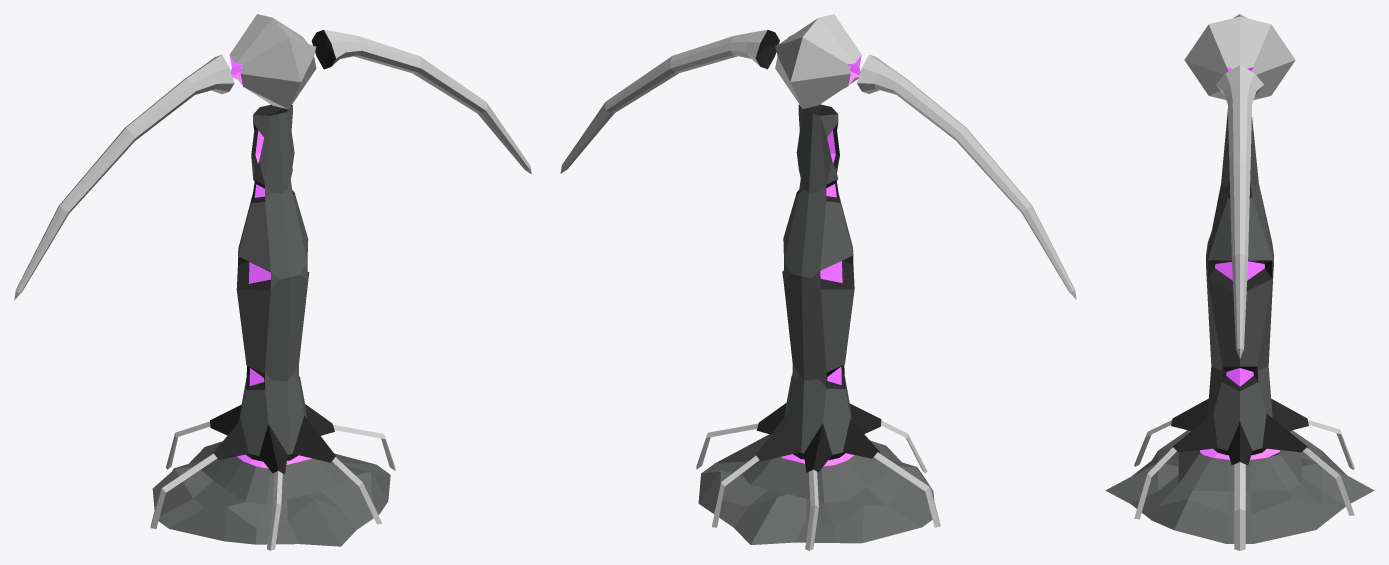
Rendered from TowerMonarch.fbx.
3 views of the same model, side by side, from view 1: azimuth 30°, elevation 25°; view 2: azimuth 150°, elevation 25°; view 3: azimuth 270°, elevation 25° (orthographic).
Parts seen in each view (by area): view 1: Tower, Tower.001; view 2: Tower, Tower.001; view 3: Tower, Tower.001.
Part boxes in pixels (<box>): Tower: <box>150,104,395,550</box>; Tower.001: <box>14,14,531,300</box>; Tower: <box>696,104,940,550</box>; Tower.001: <box>560,14,1076,299</box>; Tower: <box>1105,109,1374,550</box>; Tower.001: <box>1184,14,1295,358</box>.
Size of the model in its own units: 4.67 by 4.14 by 2.13.
